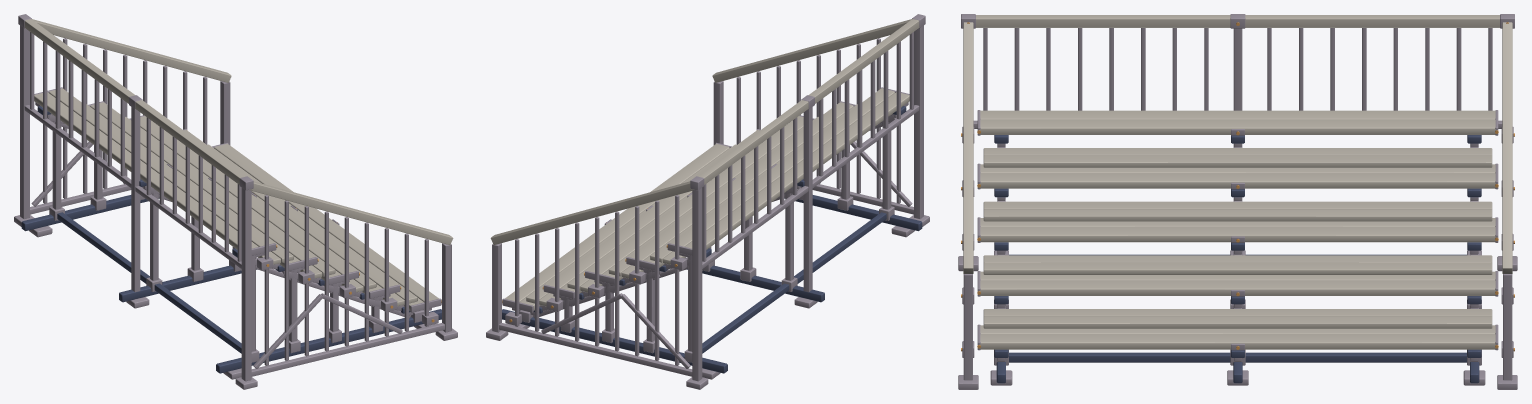
Rendered from kit.bleachers.glb.
3 views of the same model, side by side, from view 1: azimuth 30°, elevation 25°; view 2: azimuth 150°, elevation 25°; view 3: azimuth 270°, elevation 25° (orthographic). The views are drawn at different scales.
Bounding box in the file's own units: 3.55 × 3.11 × 6.27.
